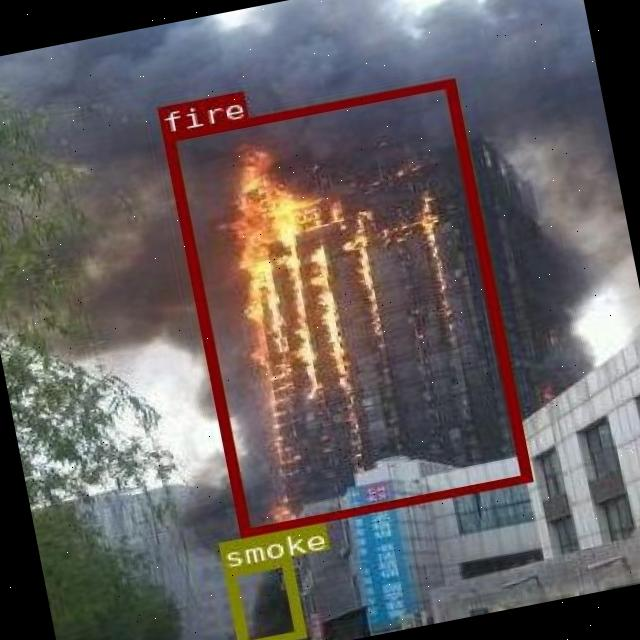fire: (162, 79, 530, 536)
smoke: (223, 557, 304, 640)
